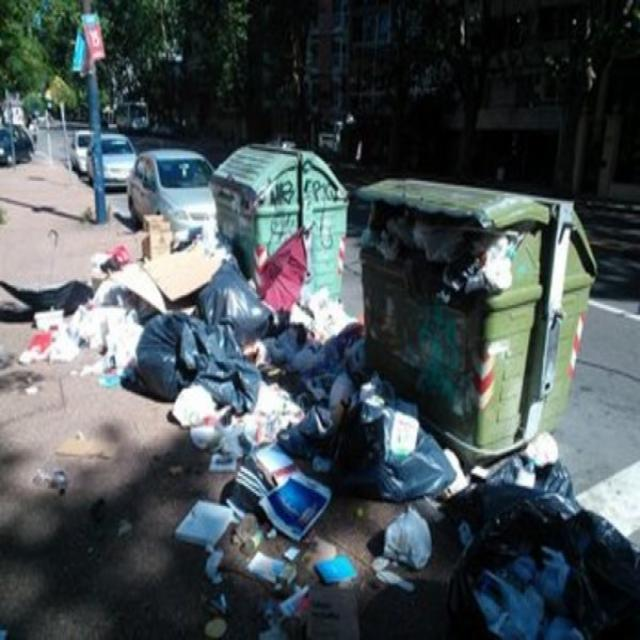garbage: (207, 372, 639, 639), (38, 241, 369, 463), (353, 197, 510, 298)
